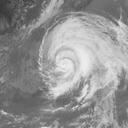cyclone: (40, 21, 106, 97)
